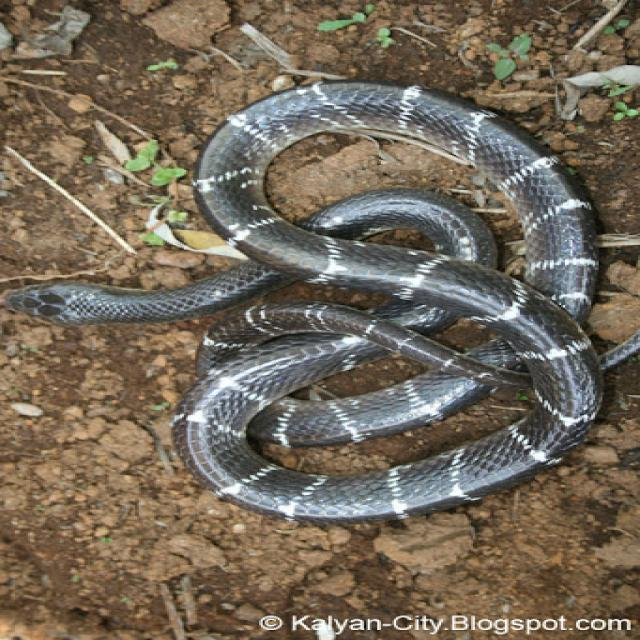Snake: (0, 70, 640, 526)
